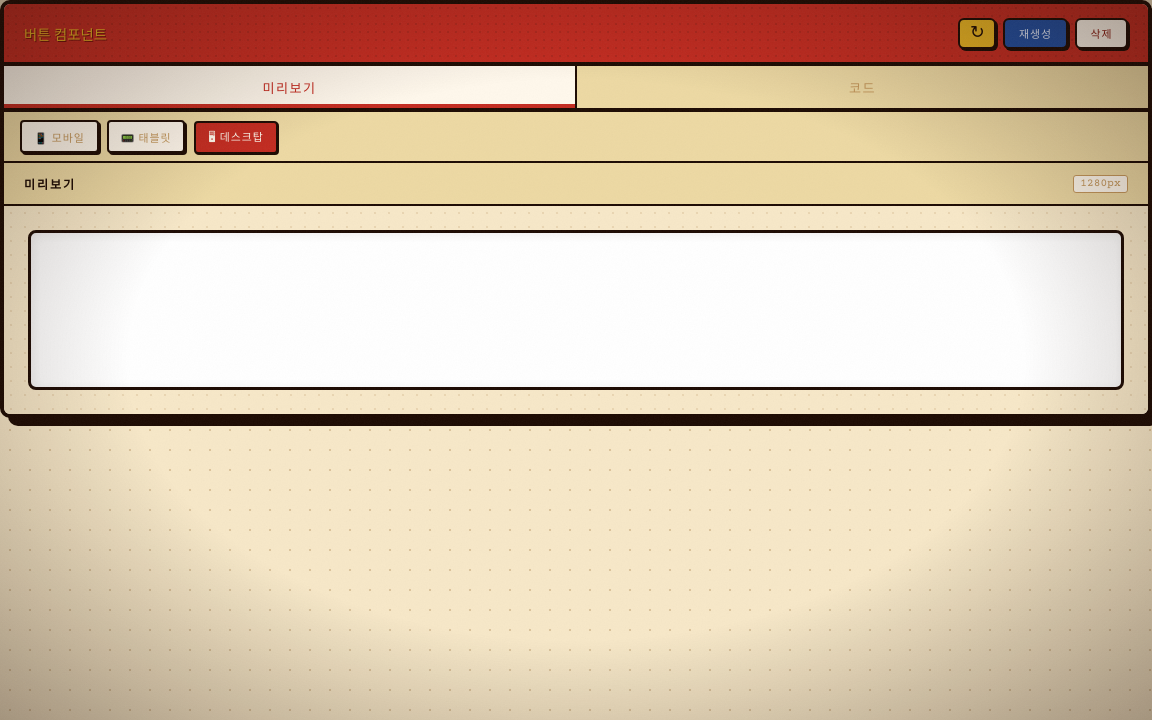
Test: ComponentCard — 반응형 뷰포트 툴바 › 코드 탭으로 전환하면 뷰포트 툴바가 숨겨진다
This screenshot has width=1152, height=720.
Click the button "코드": (862, 87) [577,66,1148,108]
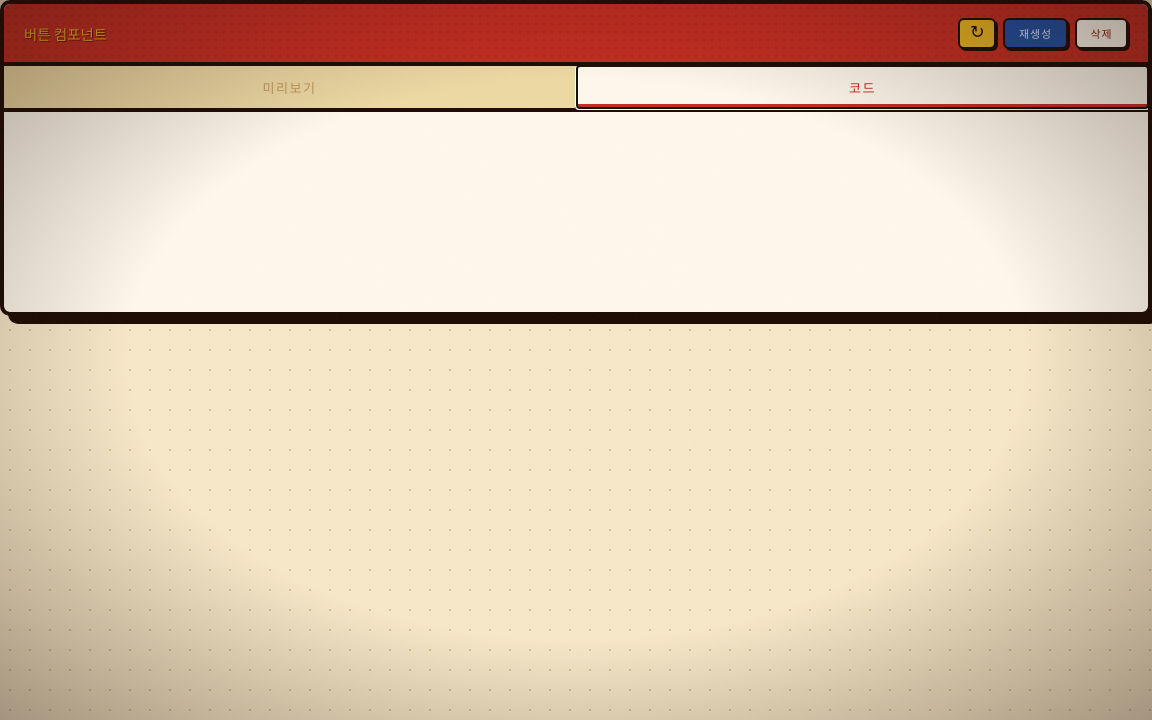
Now the button "모바일" is gone
Now the button "태블릿" is gone
Now the button "데스크탑" is gone
